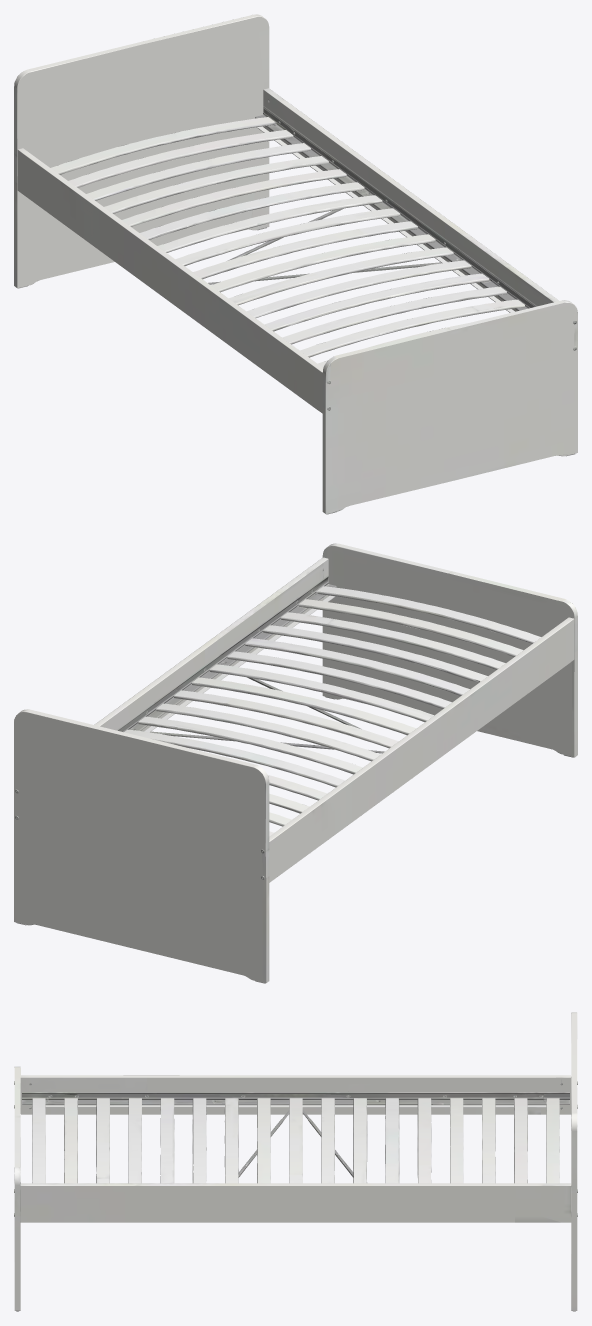
File: 06 - SLÄKT - 床框附床板條底座, 白色, 90x200 公分 IKEA 線上購物.glb
The picture shows the model from 3 angles, top to bottom: view 1: azimuth 30°, elevation 25°; view 2: azimuth 150°, elevation 25°; view 3: azimuth 270°, elevation 25°; orthographic projection. The views are drawn at different scales.
Parts seen in each view (by area): view 1: 79227755.001; view 2: 79227755.001; view 3: 79227755.001.
Boxes of the visible parts, x1,y1,x2,y2 form: 79227755.001: (14, 14, 577, 514); 79227755.001: (14, 543, 577, 983); 79227755.001: (14, 1012, 577, 1311).
Size of the model in its own units: 0.9586 by 0.7806 by 2.06.
Materials: 2 (2 with a texture image).
